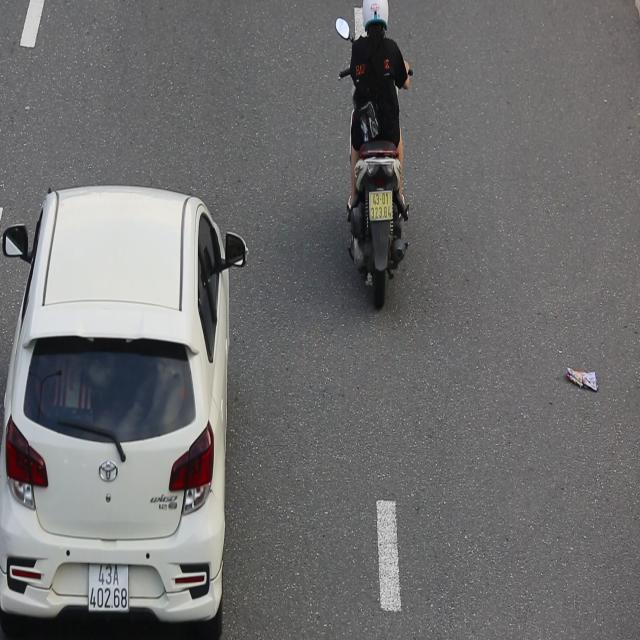motorbike: (332, 2, 415, 318)
